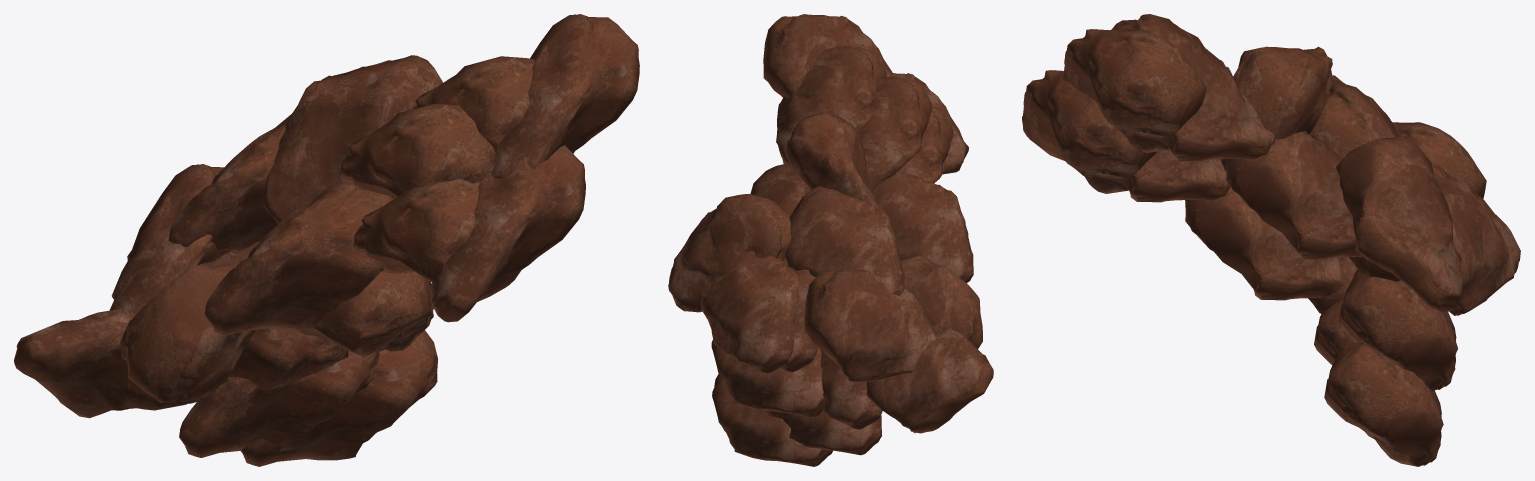
The model's file is boulders1.fbx.
3 renders of one model, left to right at view 1: azimuth 30°, elevation 25°; view 2: azimuth 150°, elevation 25°; view 3: azimuth 270°, elevation 25°, orthographic. The views are drawn at different scales.
Visible parts, largest first — view 1: Canyon_Sandstone_Boulder_ulmtabz_Low (2), Canyon_Sandstone_Boulder_ulmtabz_Low (7), Canyon_Sandstone_Boulder_ulmtabz_Low (15), Canyon_Sandstone_Boulder_ulmtabz_Low (10), Canyon_Sandstone_Boulder_ulmtabz_Low (3), Canyon_Sandstone_Boulder_ulmtabz_Low (4), Canyon_Sandstone_Boulder_ulmtabz_Low (17), Canyon_Sandstone_Boulder_ulmtabz_Low (6), Canyon_Sandstone_Boulder_ulmtabz_Low (16), Canyon_Sandstone_Boulder_ulmtabz_Low (1), Canyon_Sandstone_Boulder_ulmtabz_Low (11), Canyon_Sandstone_Boulder_ulmtabz_Low (14) (+3 smaller); view 2: Canyon_Sandstone_Boulder_ulmtabz_Low (14), Canyon_Sandstone_Boulder_ulmtabz_Low (18), Canyon_Sandstone_Boulder_ulmtabz_Low (11), Canyon_Sandstone_Boulder_ulmtabz_Low (19), Canyon_Sandstone_Boulder_ulmtabz_Low (6), Canyon_Sandstone_Boulder_ulmtabz_Low (2), Canyon_Sandstone_Boulder_ulmtabz_Low (9), Canyon_Sandstone_Boulder_ulmtabz_Low (17), Canyon_Sandstone_Boulder_ulmtabz_Low (10), Canyon_Sandstone_Boulder_ulmtabz_Low (15), Canyon_Sandstone_Boulder_ulmtabz_Low (12), Canyon_Sandstone_Boulder_ulmtabz_Low (16) (+7 smaller); view 3: Canyon_Sandstone_Boulder_ulmtabz_Low (19), Canyon_Sandstone_Boulder_ulmtabz_Low (15), Canyon_Sandstone_Boulder_ulmtabz_Low (8), Canyon_Sandstone_Boulder_ulmtabz_Low (16), Canyon_Sandstone_Boulder_ulmtabz_Low, Canyon_Sandstone_Boulder_ulmtabz_Low (12), Canyon_Sandstone_Boulder_ulmtabz_Low (7), Canyon_Sandstone_Boulder_ulmtabz_Low (9), Canyon_Sandstone_Boulder_ulmtabz_Low (10), Canyon_Sandstone_Boulder_ulmtabz_Low (18), Canyon_Sandstone_Boulder_ulmtabz_Low (1), Canyon_Sandstone_Boulder_ulmtabz_Low (11) (+4 smaller).
Part boxes in pixels (x1,y1,x2,y2): Canyon_Sandstone_Boulder_ulmtabz_Low (2): [204, 182, 392, 335]; Canyon_Sandstone_Boulder_ulmtabz_Low (7): [430, 145, 585, 322]; Canyon_Sandstone_Boulder_ulmtabz_Low (15): [491, 14, 639, 178]; Canyon_Sandstone_Boulder_ulmtabz_Low (10): [263, 55, 443, 223]; Canyon_Sandstone_Boulder_ulmtabz_Low (3): [120, 241, 259, 402]; Canyon_Sandstone_Boulder_ulmtabz_Low (4): [179, 351, 379, 457]; Canyon_Sandstone_Boulder_ulmtabz_Low (17): [340, 103, 495, 199]; Canyon_Sandstone_Boulder_ulmtabz_Low (6): [14, 308, 228, 418]; Canyon_Sandstone_Boulder_ulmtabz_Low (16): [241, 330, 437, 466]; Canyon_Sandstone_Boulder_ulmtabz_Low (1): [353, 179, 480, 281]; Canyon_Sandstone_Boulder_ulmtabz_Low (11): [168, 114, 291, 251]; Canyon_Sandstone_Boulder_ulmtabz_Low (14): [109, 164, 230, 313]; Canyon_Sandstone_Boulder_ulmtabz_Low (14): [804, 269, 935, 382]; Canyon_Sandstone_Boulder_ulmtabz_Low (18): [700, 251, 799, 373]; Canyon_Sandstone_Boulder_ulmtabz_Low (11): [785, 186, 904, 295]; Canyon_Sandstone_Boulder_ulmtabz_Low (19): [668, 194, 791, 312]; Canyon_Sandstone_Boulder_ulmtabz_Low (6): [866, 326, 993, 433]; Canyon_Sandstone_Boulder_ulmtabz_Low (2): [871, 170, 973, 282]; Canyon_Sandstone_Boulder_ulmtabz_Low (9): [776, 46, 886, 164]; Canyon_Sandstone_Boulder_ulmtabz_Low (17): [858, 76, 932, 192]; Canyon_Sandstone_Boulder_ulmtabz_Low (10): [786, 111, 879, 208]; Canyon_Sandstone_Boulder_ulmtabz_Low (15): [763, 14, 892, 98]; Canyon_Sandstone_Boulder_ulmtabz_Low (12): [711, 339, 825, 417]; Canyon_Sandstone_Boulder_ulmtabz_Low (16): [712, 374, 832, 466]; Canyon_Sandstone_Boulder_ulmtabz_Low (19): [1336, 137, 1462, 312]; Canyon_Sandstone_Boulder_ulmtabz_Low (15): [1062, 29, 1206, 152]; Canyon_Sandstone_Boulder_ulmtabz_Low (8): [1226, 131, 1362, 259]; Canyon_Sandstone_Boulder_ulmtabz_Low (16): [1324, 341, 1443, 466]; Canyon_Sandstone_Boulder_ulmtabz_Low: [1185, 186, 1344, 300]; Canyon_Sandstone_Boulder_ulmtabz_Low (12): [1339, 269, 1457, 390]; Canyon_Sandstone_Boulder_ulmtabz_Low (7): [1022, 70, 1157, 193]; Canyon_Sandstone_Boulder_ulmtabz_Low (9): [1115, 16, 1274, 161]; Canyon_Sandstone_Boulder_ulmtabz_Low (10): [1222, 46, 1332, 170]; Canyon_Sandstone_Boulder_ulmtabz_Low (18): [1432, 164, 1520, 315]; Canyon_Sandstone_Boulder_ulmtabz_Low (1): [1119, 149, 1230, 202]; Canyon_Sandstone_Boulder_ulmtabz_Low (11): [1309, 75, 1401, 158].
Size of the model in its own units: 103 by 110 by 107.
Materials: 1 (1 with a texture image).
